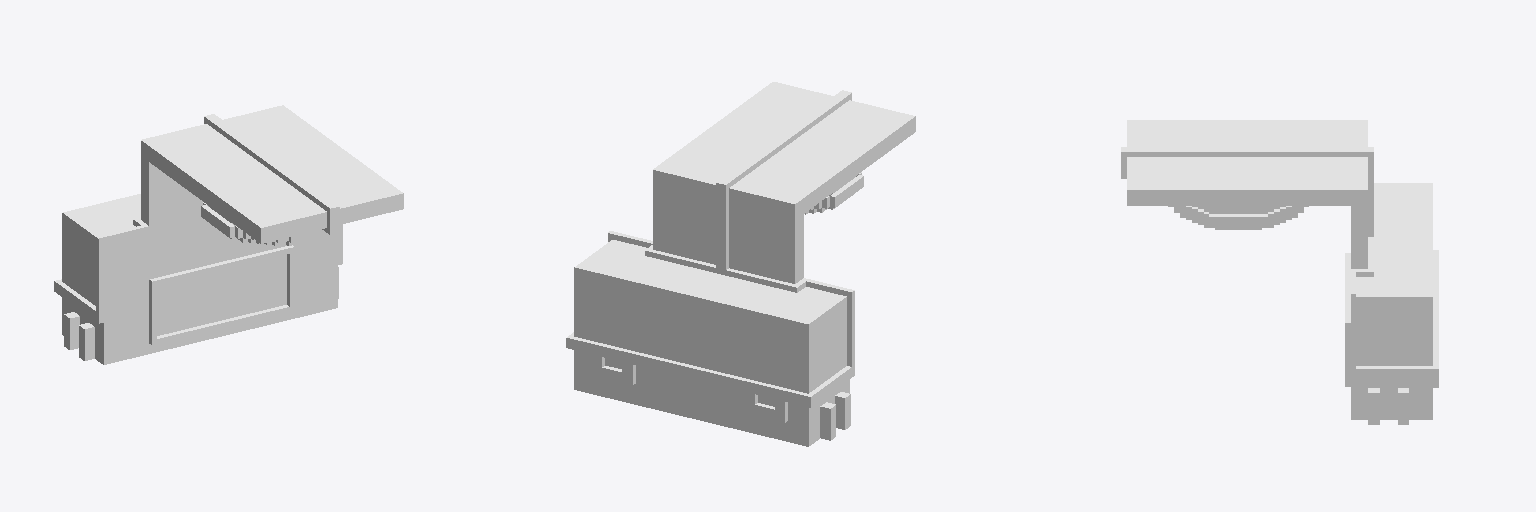
File: Foreuse-0-Base.obj
3 views of the same model, side by side, from view 1: azimuth 30°, elevation 25°; view 2: azimuth 150°, elevation 25°; view 3: azimuth 270°, elevation 25° (orthographic).
Visible parts, largest first — view 1: Base; view 2: Base; view 3: Base.
Part boxes in pixels (x1,y1,x2,y2): Base: (54, 105, 403, 364); Base: (566, 82, 915, 446); Base: (1121, 120, 1438, 424).
Size of the model in its own units: 5 by 4 by 5.4.